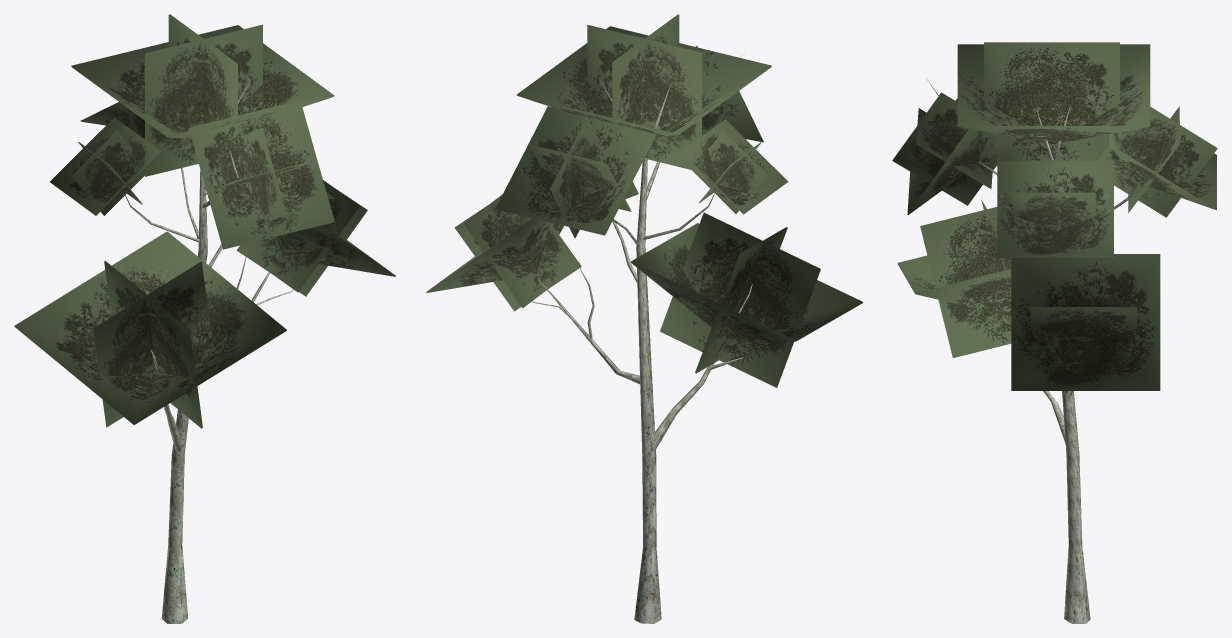
Rendered from ever_eucalyptus_med_l0.fbx.
3 views of the same model, side by side, from view 1: azimuth 30°, elevation 25°; view 2: azimuth 150°, elevation 25°; view 3: azimuth 270°, elevation 25° (orthographic). The views are drawn at different scales.
Parts seen in each view (by area): view 1: mesh_node; view 2: mesh_node; view 3: mesh_node.
Boxes of the visible parts, x1=… form: mesh_node: x1=14, y1=14, x2=395, y2=623; mesh_node: x1=426, y1=14, x2=862, y2=623; mesh_node: x1=892, y1=42, x2=1217, y2=623.
Size of the model in its own units: 10.61 by 16.82 by 8.5.
